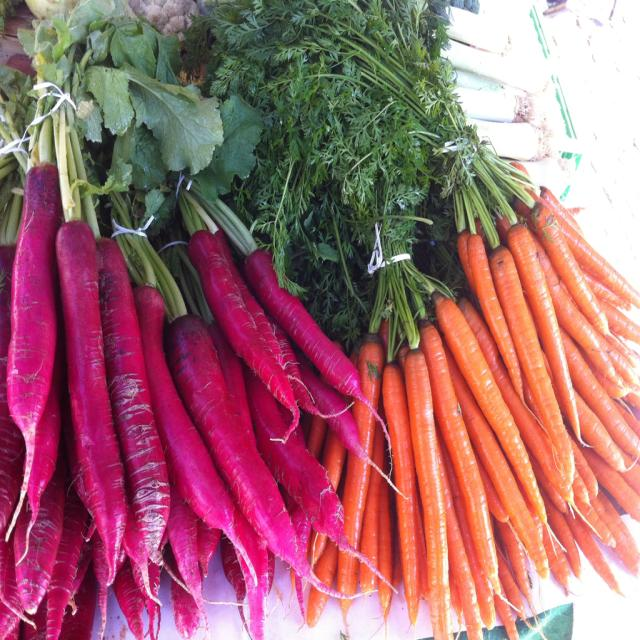carrot: (290, 162, 640, 640), (349, 331, 385, 639)
